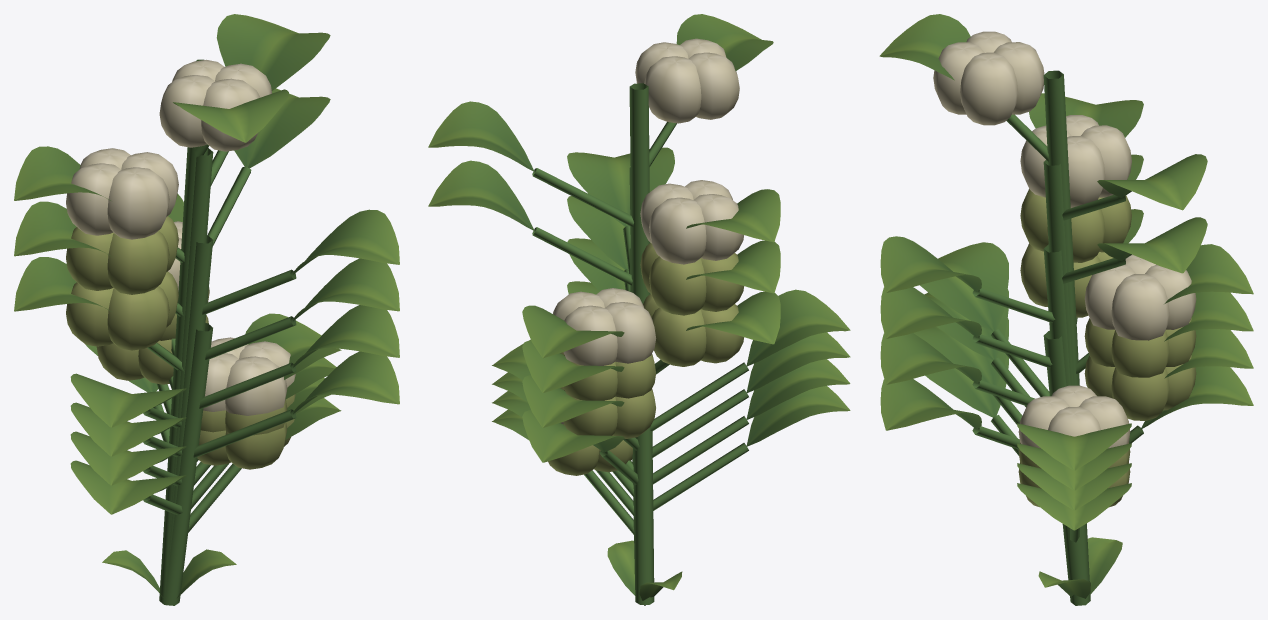
The model's file is cotton.glb.
3 views of the same model, side by side, from view 1: azimuth 30°, elevation 25°; view 2: azimuth 150°, elevation 25°; view 3: azimuth 270°, elevation 25° (orthographic). The views are drawn at different scales.
Parts seen in each view (by area): view 1: Phase4, Phase3, Phase2, Phase1, Phase0; view 2: Phase4, Phase3, Phase2, Phase1, Phase0; view 3: Phase4, Phase3, Phase2, Phase1, Phase0.
Boxes of the visible parts, bbox=[...] form: Phase4: bbox=[14, 14, 399, 605]; Phase3: bbox=[14, 88, 399, 605]; Phase2: bbox=[14, 235, 399, 605]; Phase1: bbox=[70, 323, 399, 605]; Phase0: bbox=[102, 549, 236, 597]; Phase4: bbox=[428, 14, 850, 604]; Phase3: bbox=[428, 160, 850, 582]; Phase2: bbox=[492, 238, 850, 585]; Phase1: bbox=[492, 281, 850, 602]; Phase0: bbox=[607, 540, 682, 605]; Phase4: bbox=[879, 14, 1253, 605]; Phase3: bbox=[880, 154, 1253, 605]; Phase2: bbox=[880, 209, 1253, 605]; Phase1: bbox=[880, 330, 1253, 605]; Phase0: bbox=[1038, 537, 1122, 598].
Size of the model in its own units: 0.6373 by 1.04 by 0.6267.
